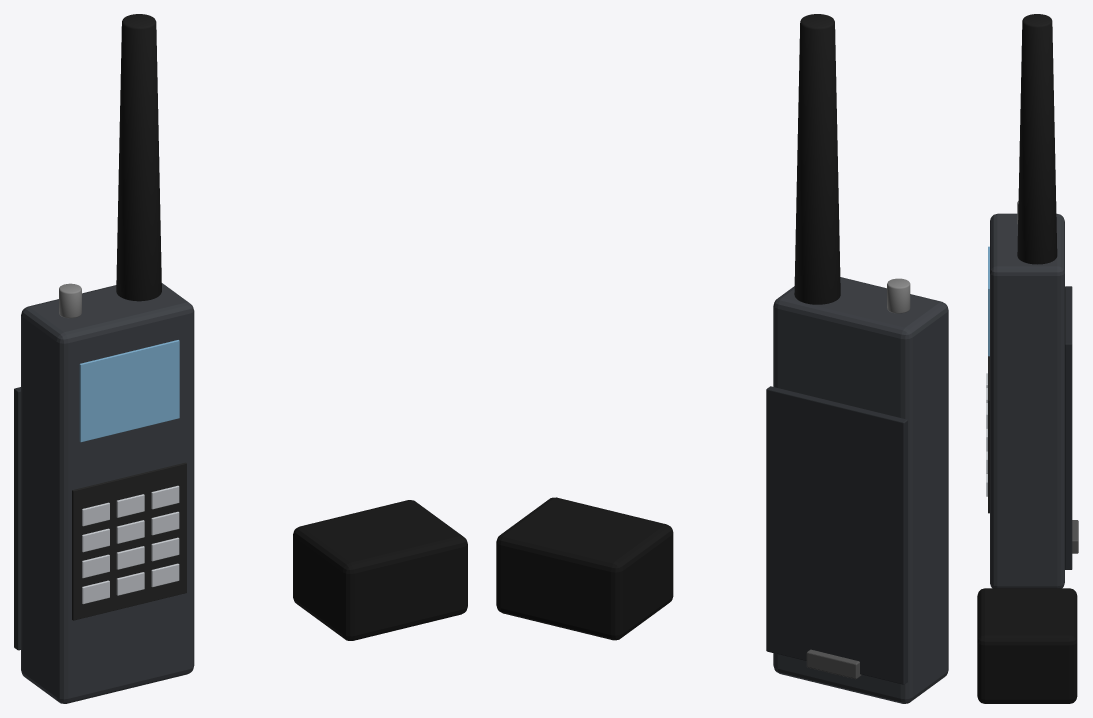
Rendered from satphone.glb.
The picture shows the model from 3 angles, left to right: view 1: azimuth 30°, elevation 25°; view 2: azimuth 150°, elevation 25°; view 3: azimuth 270°, elevation 25°; orthographic projection. The views are drawn at different scales.
Visible parts, largest first — view 1: body, charger, antenna, keypad, screen, cover, extant; view 2: cover, body, charger, antenna, clip, extant; view 3: body, charger, antenna, cover, keypad, clip, screen.
Part boxes in pixels (bbox=[...]): body: bbox=[21, 283, 194, 703]; charger: bbox=[293, 500, 467, 640]; antenna: bbox=[116, 14, 161, 301]; keypad: bbox=[72, 462, 186, 620]; screen: bbox=[79, 340, 179, 442]; cover: bbox=[14, 387, 20, 650]; extant: bbox=[59, 283, 81, 318]; cover: bbox=[766, 386, 907, 684]; body: bbox=[773, 277, 948, 703]; charger: bbox=[496, 497, 673, 640]; antenna: bbox=[794, 14, 840, 304]; clip: bbox=[806, 649, 861, 679]; extant: bbox=[887, 278, 910, 313]; body: bbox=[990, 213, 1064, 588]; charger: bbox=[977, 588, 1077, 703]; antenna: bbox=[1017, 14, 1057, 264]; cover: bbox=[1065, 286, 1072, 569]; keypad: bbox=[988, 356, 989, 513]; clip: bbox=[1072, 520, 1078, 553]; screen: bbox=[988, 246, 989, 356].
Bounding box in the file's own units: 3.25 × 4.95 × 0.81.
